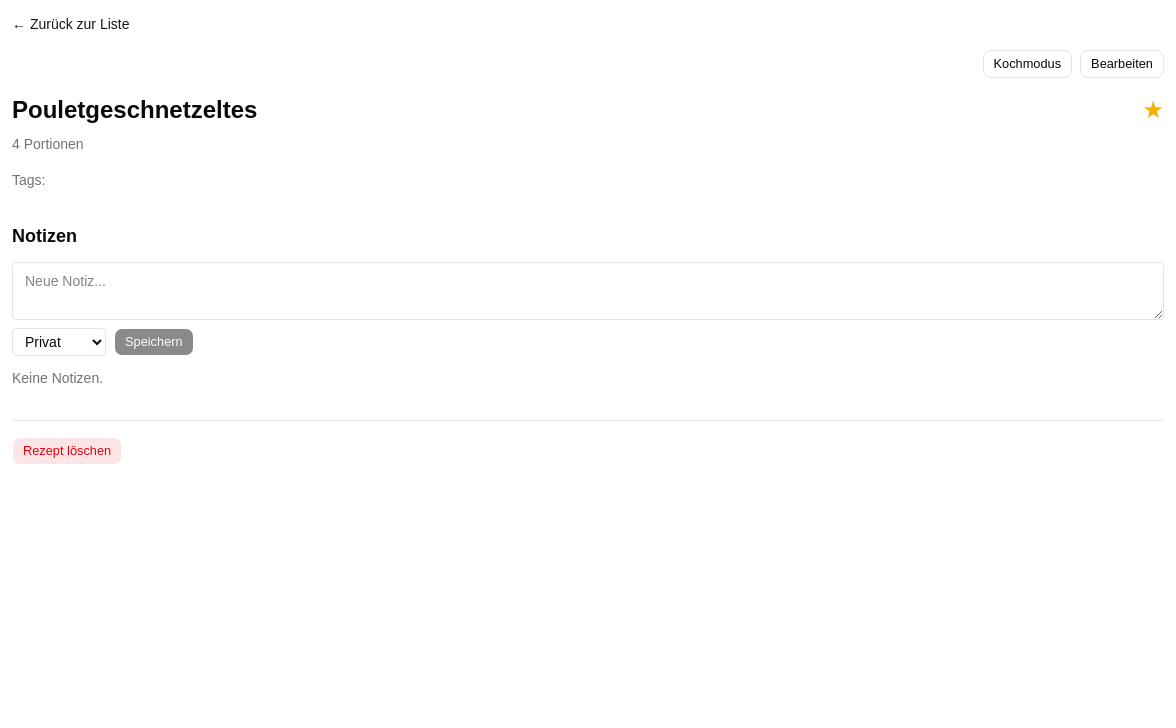
it: RecipeDetailPage inline edit mode › hides the favorite star and notes section in edit mode
Check: the button titled "Favorit entfernen" is shown, box [1142,94,1164,126]
Check: the heading "Notizen" is shown, box [12,226,77,246]
Click the button "Bearbeiten" at (1122,64), box [1080,50,1164,78]
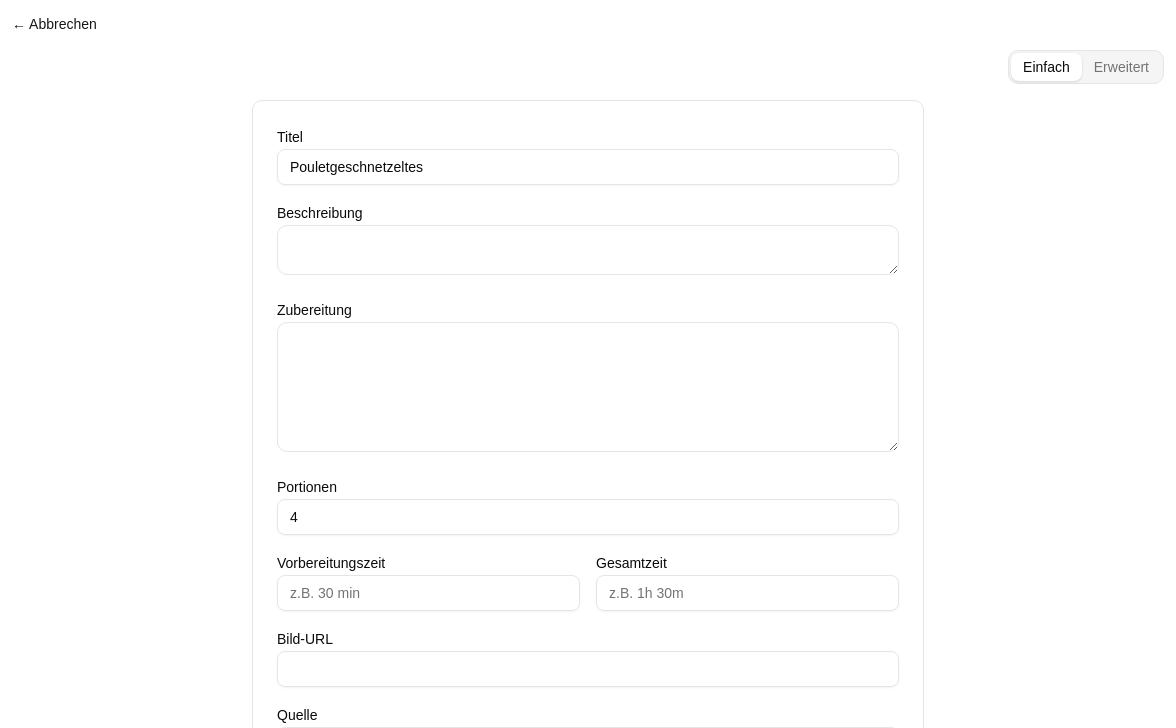
Check: the heading "Notizen" is gone
